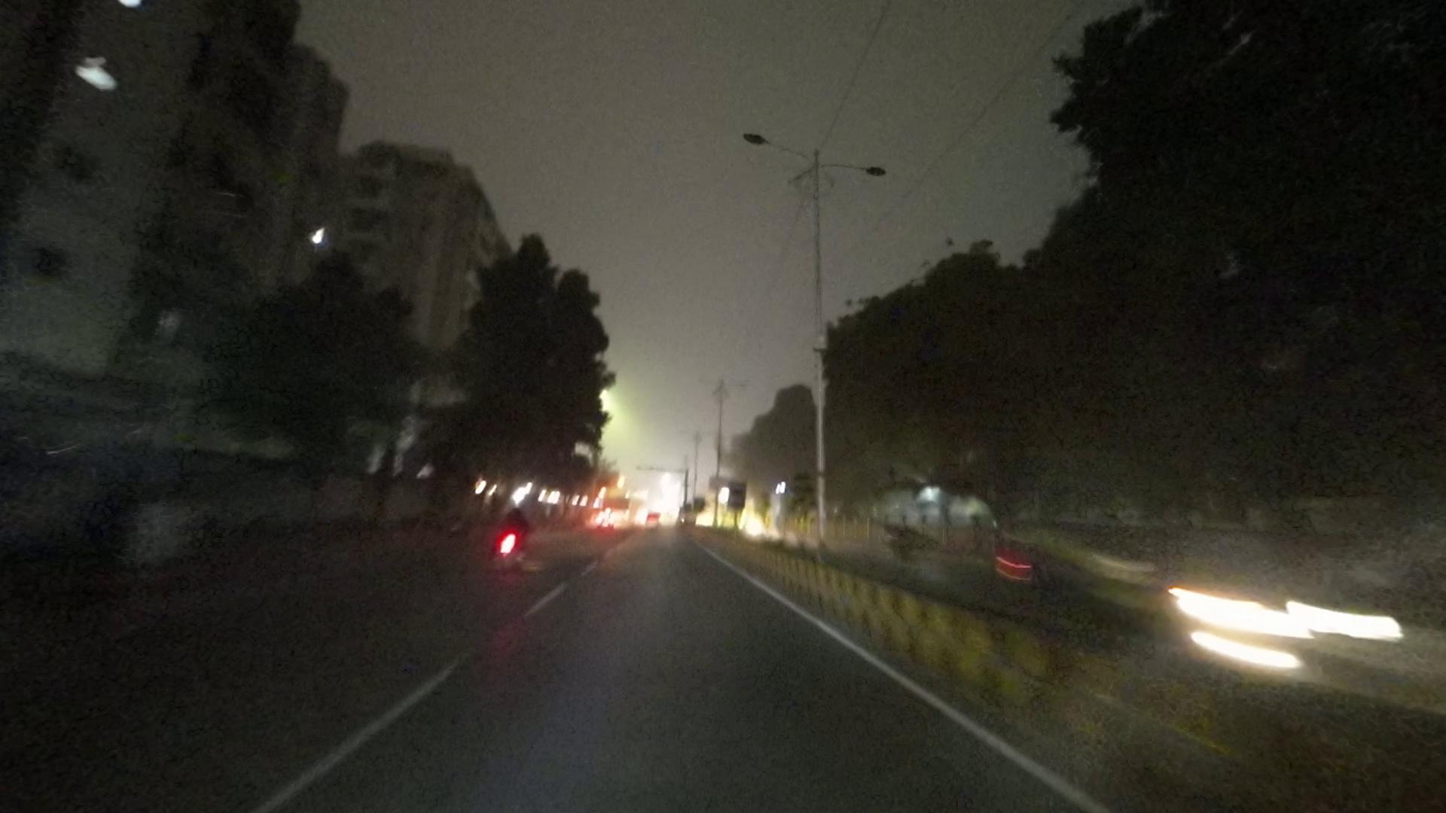streetlight: (742, 130, 811, 162), (821, 156, 889, 181)
